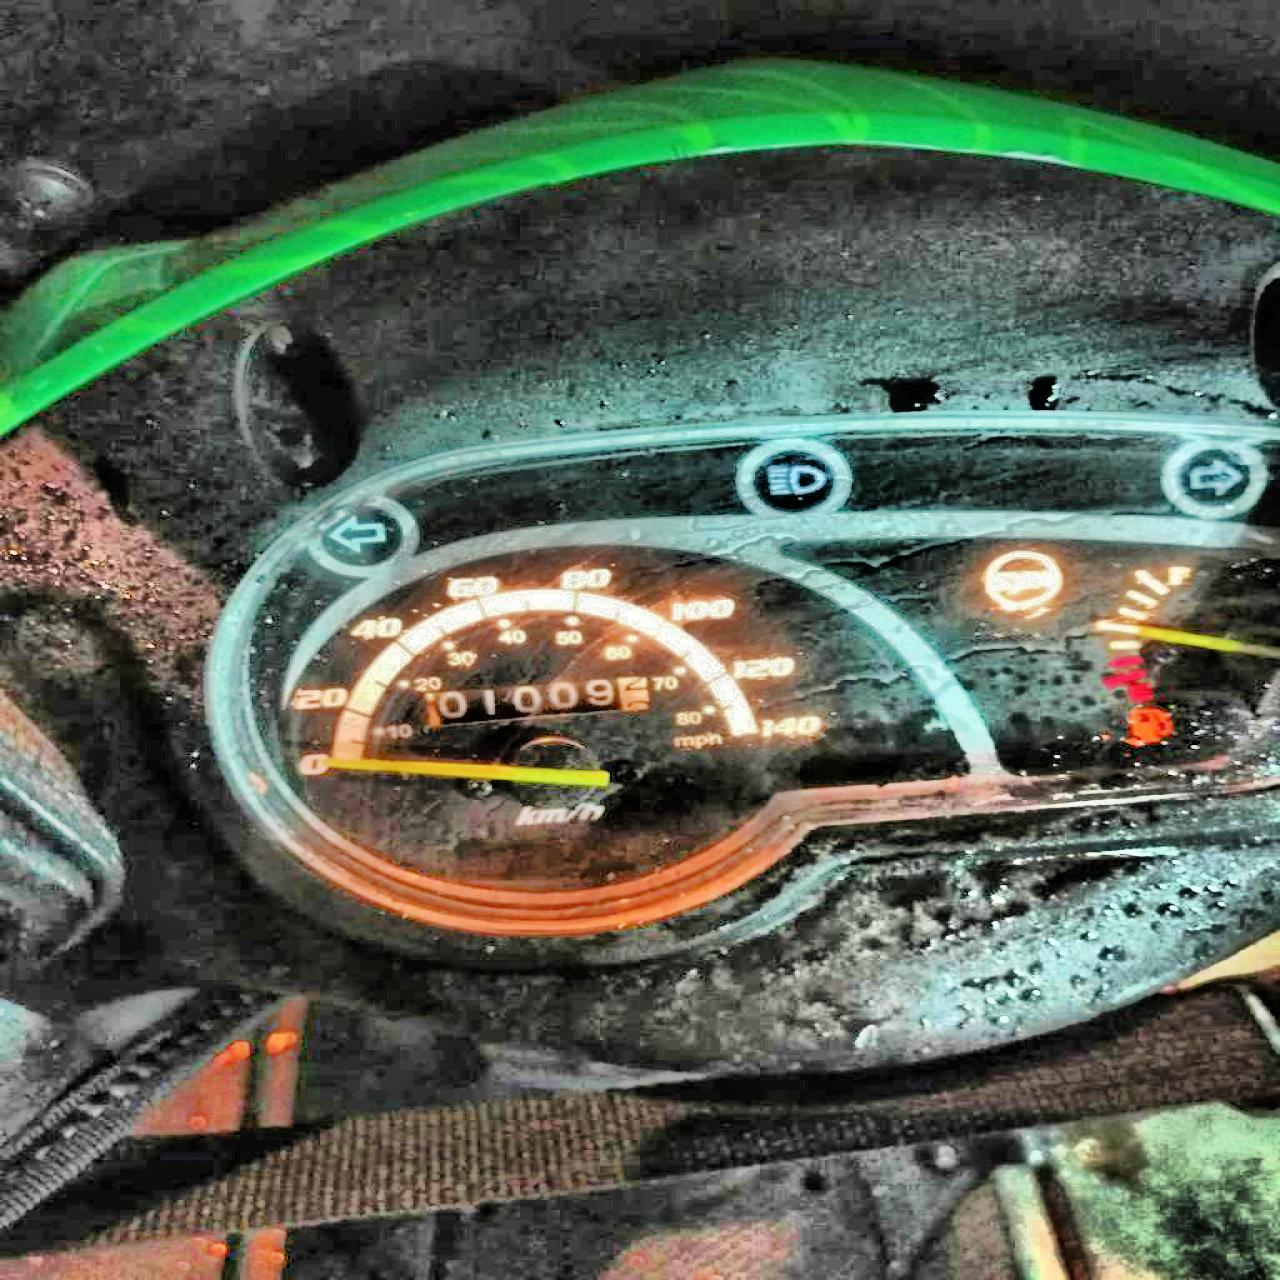0: (545, 678, 578, 710), (509, 682, 539, 714), (437, 688, 468, 717), (427, 674, 442, 690)
1: (479, 681, 498, 720)
2: (618, 673, 647, 699)
9: (584, 676, 613, 709)
odometer: (423, 673, 652, 729)
